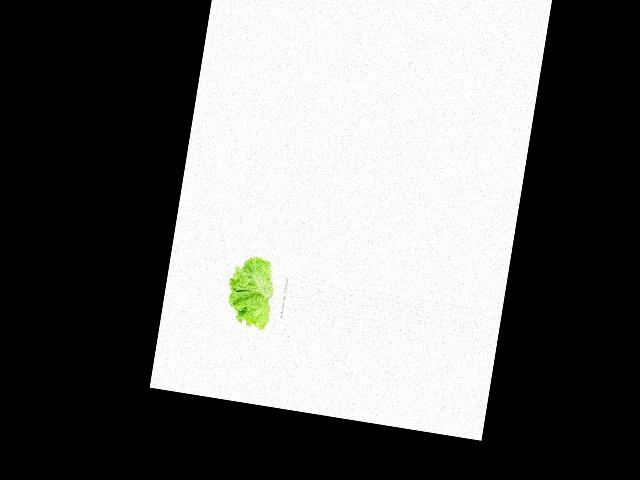lettuce: (221, 251, 288, 332)
